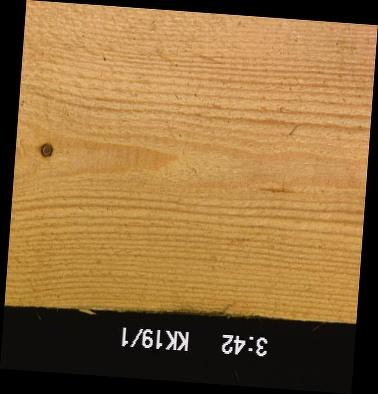dry_knot: (38, 140, 54, 158)
